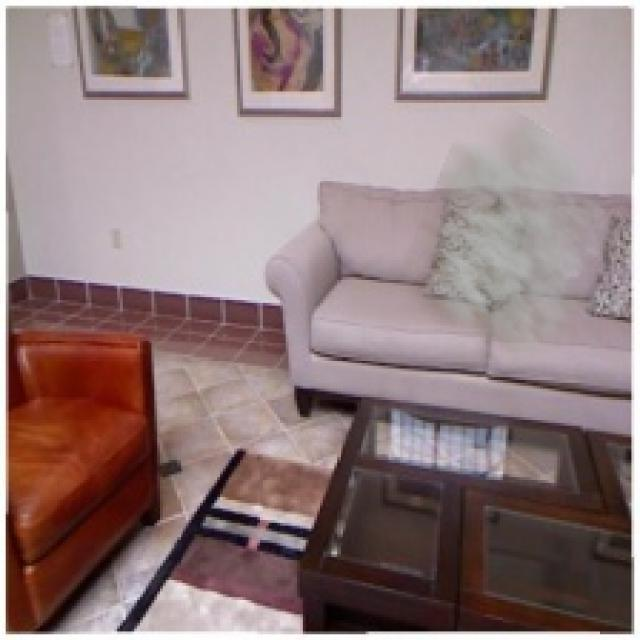Smoke: (394, 105, 617, 368)
